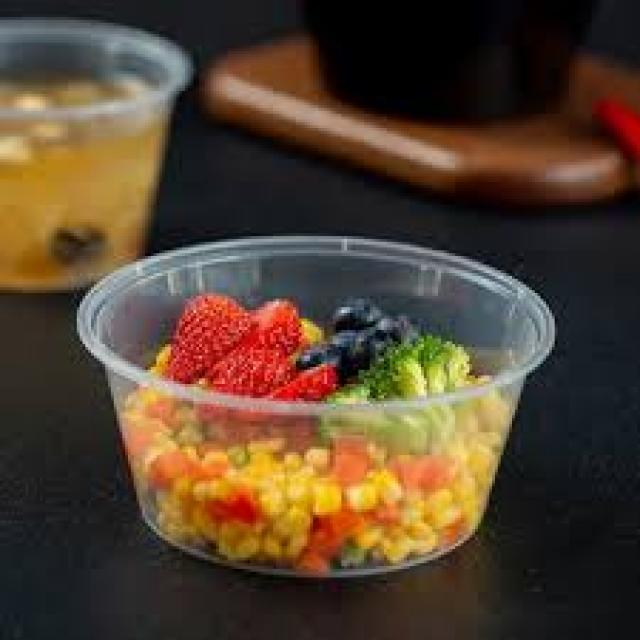disposable: (78, 221, 574, 600)
